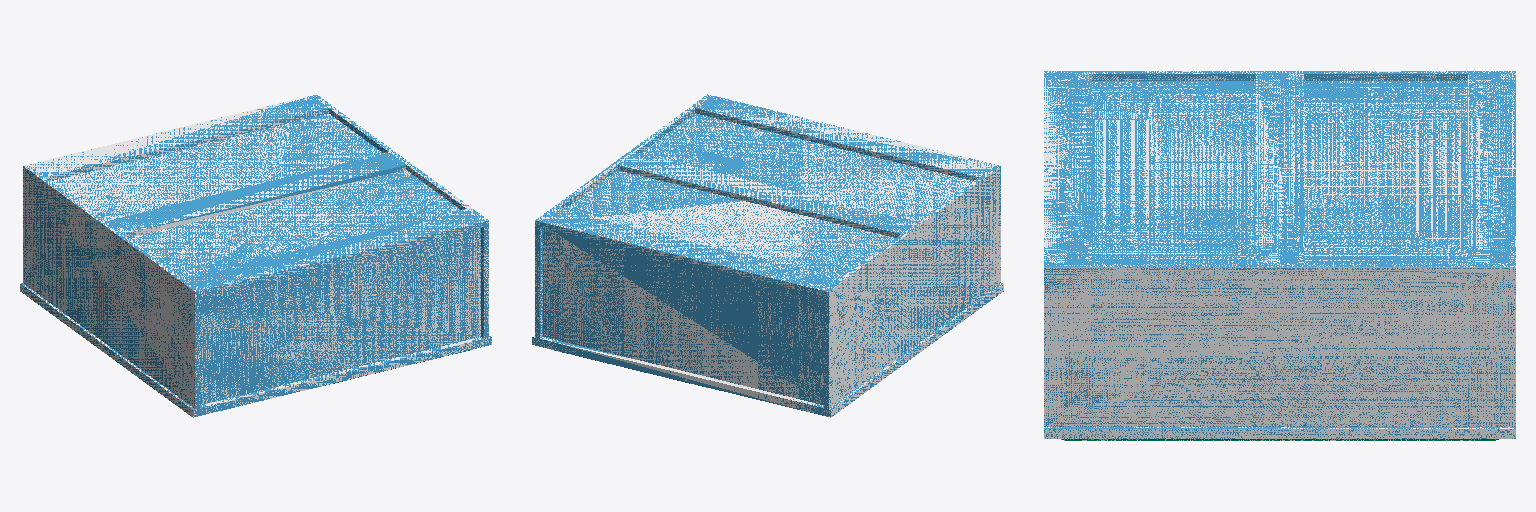
robot.urdf — right-pull-door:
<?xml version="1.0" ?>
<robot name="right-pull-door">
	<link name="base"/>
	<link name="link_0">
		<visual name="out-frame">
			<origin xyz="0 0 0"/>
			<geometry>
				<mesh filename="texture_dae/frame.dae" scale="0.8 0.8 0.8"/>
			</geometry>
		</visual>
		<collision>
			<origin xyz="0 0 0"/>
			<geometry>
				<mesh filename="texture_dae/frame.dae" scale="0.8 0.8 0.8"/>
			</geometry>
		</collision>
	</link>
	<joint name="joint_0" type="fixed">
		<origin rpy="1.570796326794897 0 -1.570796326794897" xyz="0 0 0"/>
		<child link="link_0"/>
		<parent link="base"/>
	</joint>
	<link name="link_1">
		<visual name="surf-board">
			<origin xyz="1.0022579669952394 -0.23679975237374706 0"/>
			<geometry>
				<mesh filename="texture_dae/board.dae" scale="0.8 0.8 0.8"/>
			</geometry>
		</visual>
		<collision>
			<origin xyz="1.0022579669952394 -0.23679975237374706 0"/>
			<geometry>
				<mesh filename="texture_dae/board.dae" scale="0.8 0.8 0.8"/>
			</geometry>
		</collision>
	</link>
	<joint name="joint_1" type="revolute">
		<origin xyz="-1.0022579669952394 0.23679975237374706 0"/>
		<axis xyz="0 -1 0"/>
		<child link="link_1"/>
		<parent link="link_0"/>
		<limit lower="0" upper="1.5079644737231006"/>
	</joint>
	<link name="link_2">
		<visual name="handle">
			<origin xyz="0 0 0"/>
			<geometry>
				<mesh filename="texture_dae/9962009.dae" scale="0.9663451678902796 0.9663451678902796 0.9663451678902796"/>
			</geometry>
		</visual>
		<collision>
			<origin xyz="0 0 0"/>
			<geometry>
				<mesh filename="texture_dae/9962009.dae" scale="0.9663451678902796 0.9663451678902796 0.9663451678902796"/>
			</geometry>
		</collision>
	</link>
	<joint name="joint_2" type="revolute">
		<origin xyz="1.0022579669952394 -0.23679975237374706 0.013909458598900427"/>
		<child link="link_2"/>
		<parent link="link_1"/>
		<axis xyz="0 0 1"/>
		<limit lower="0" upper="1.5079644737231006"/>
	</joint>
</robot>

--- Facts derived from the render (not from the file) ---
The picture shows the robot from 3 angles, left to right: view 1: azimuth 30°, elevation 25°; view 2: azimuth 150°, elevation 25°; view 3: azimuth 270°, elevation 25°; orthographic projection.
Model right-pull-door with 4 links and 3 joints (2 revolute, 1 fixed), rooted at base, posed every joint at zero.
Visible links, largest first — view 1: link_0; view 2: link_0; view 3: link_0, link_1.
Boxes of the visible links, x1=… form: link_0: x1=20, y1=94, x2=491, y2=417; link_0: x1=532, y1=94, x2=1003, y2=417; link_0: x1=1044, y1=71, x2=1515, y2=438; link_1: x1=1061, y1=439, x2=1498, y2=440.
Size in the robot's own frame: 1.12 by 1.12 by 0.4767 metres.
Meshes: 3 distinct files referenced, 2 mesh visuals loaded (2 Collada DAE); not drawn: 1 (reference not matched to a file when rendering).